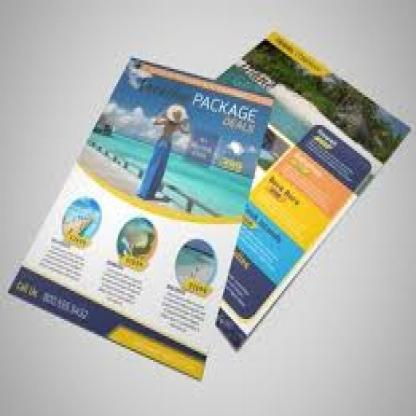Paper: (3, 5, 402, 406)
